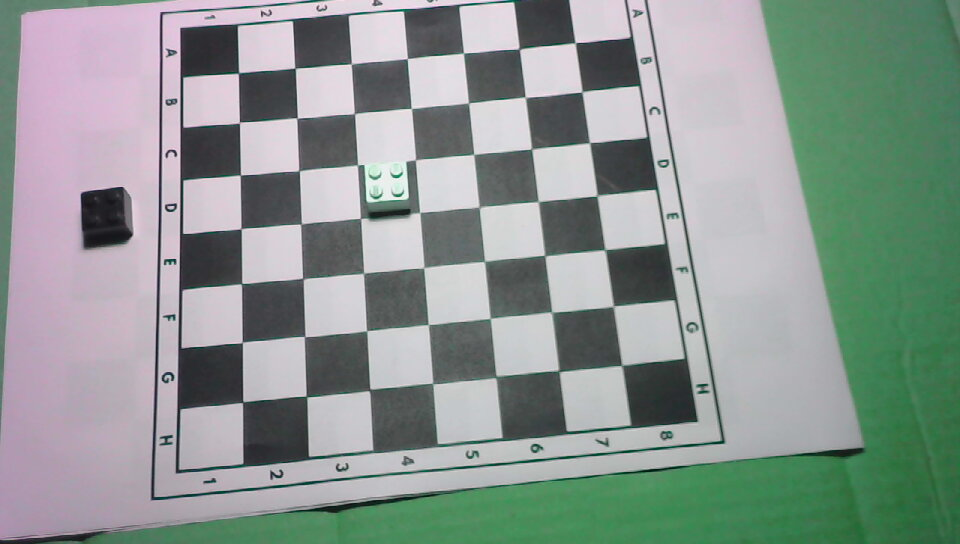wp: (358, 155, 415, 213)
